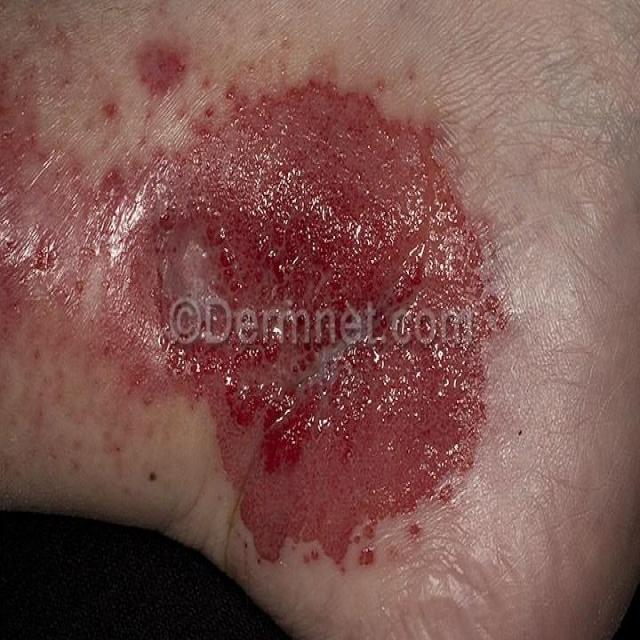Eczema: (0, 43, 495, 553)
